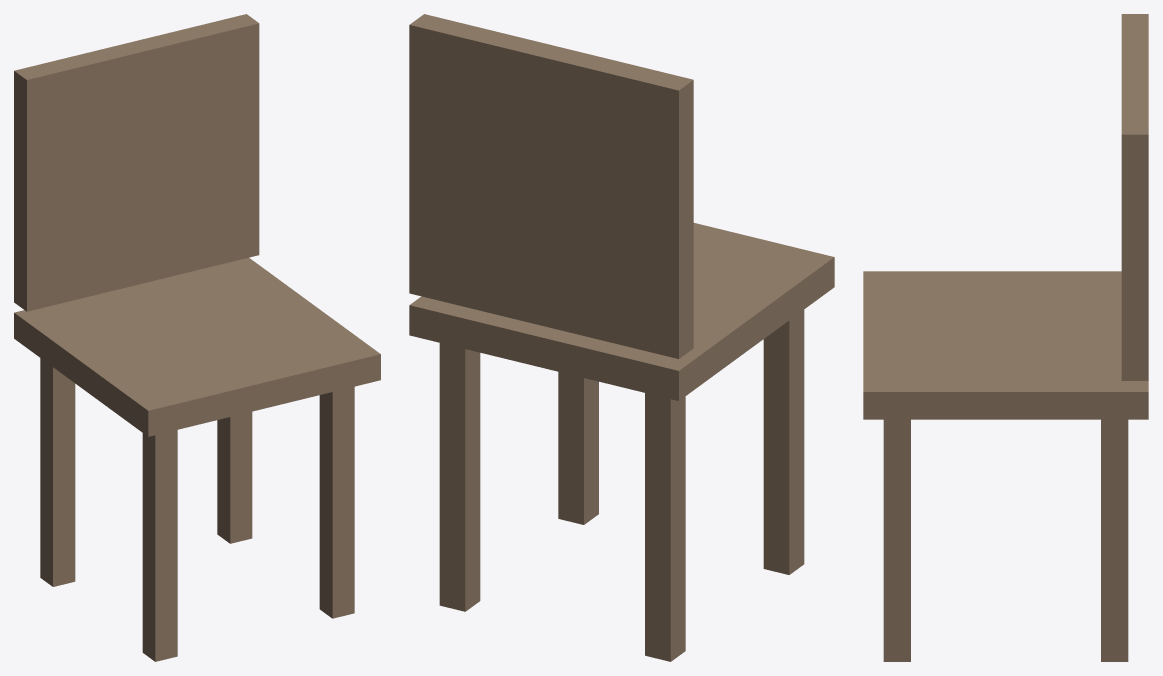
The model's file is AR-CHAIR.glb.
3 views of the same model, side by side, from view 1: azimuth 30°, elevation 25°; view 2: azimuth 150°, elevation 25°; view 3: azimuth 270°, elevation 25° (orthographic). The views are drawn at different scales.
Visible parts, largest first — view 1: back, seat, leg (×4); view 2: back, leg (×4), seat; view 3: seat, leg (×2), back.
Boxes of the visible parts, bbox=[...] form: back: bbox=[14, 14, 259, 311]; seat: bbox=[14, 257, 380, 436]; leg (×4): bbox=[40, 358, 354, 661]; back: bbox=[409, 14, 693, 358]; leg (×4): bbox=[439, 310, 804, 661]; seat: bbox=[409, 223, 834, 400]; seat: bbox=[863, 271, 1148, 419]; leg (×2): bbox=[883, 419, 1128, 661]; back: bbox=[1121, 14, 1148, 380].
Size of the model in its own units: 0.42 by 0.87 by 0.42.
